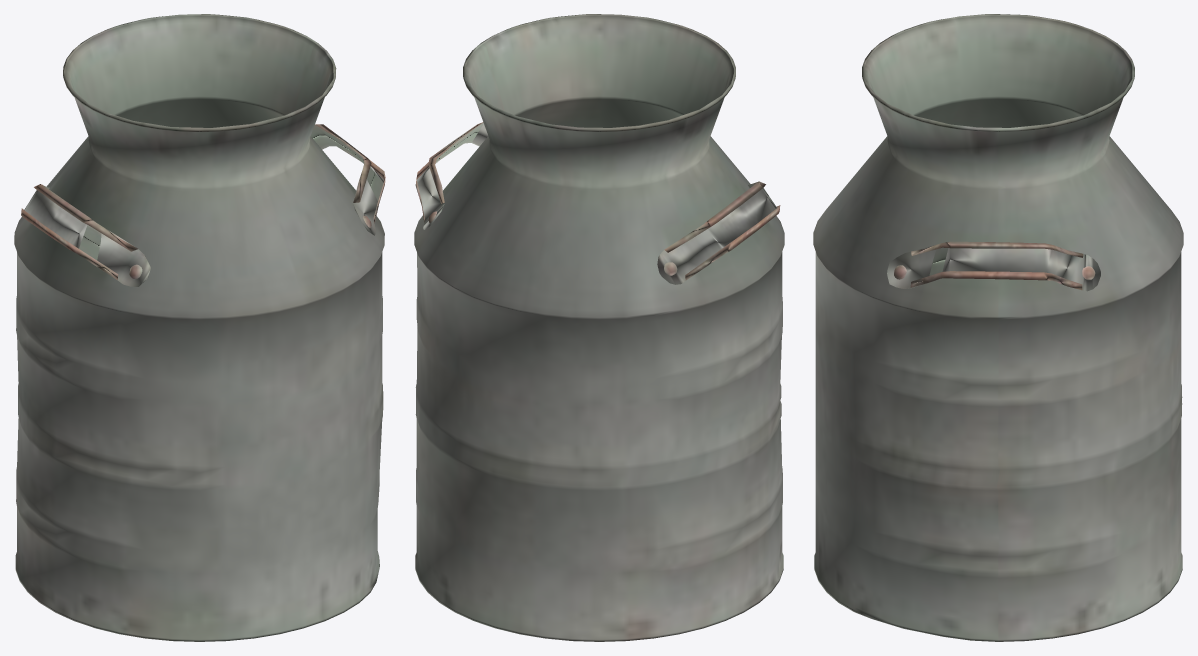
Rendered from metal_jug.gltf.
3 views of the same model, side by side, from view 1: azimuth 30°, elevation 25°; view 2: azimuth 150°, elevation 25°; view 3: azimuth 270°, elevation 25° (orthographic).
Parts seen in each view (by area): view 1: metal_jug; view 2: metal_jug; view 3: metal_jug.
Boxes of the visible parts, box(x1,y1,x2,y2) form: metal_jug: box(14, 14, 385, 641); metal_jug: box(414, 14, 784, 641); metal_jug: box(813, 14, 1183, 641).
Size of the model in its own units: 0.1969 by 0.2876 by 0.1958.
1 material, 1 textured.
